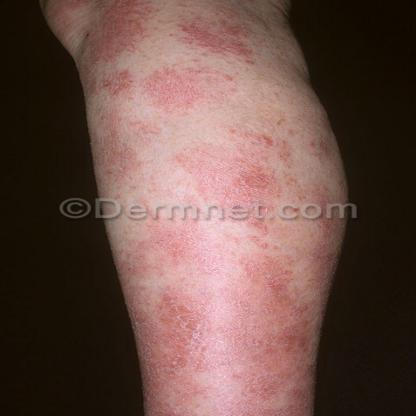Eczema: (127, 59, 239, 118), (227, 145, 288, 204)
